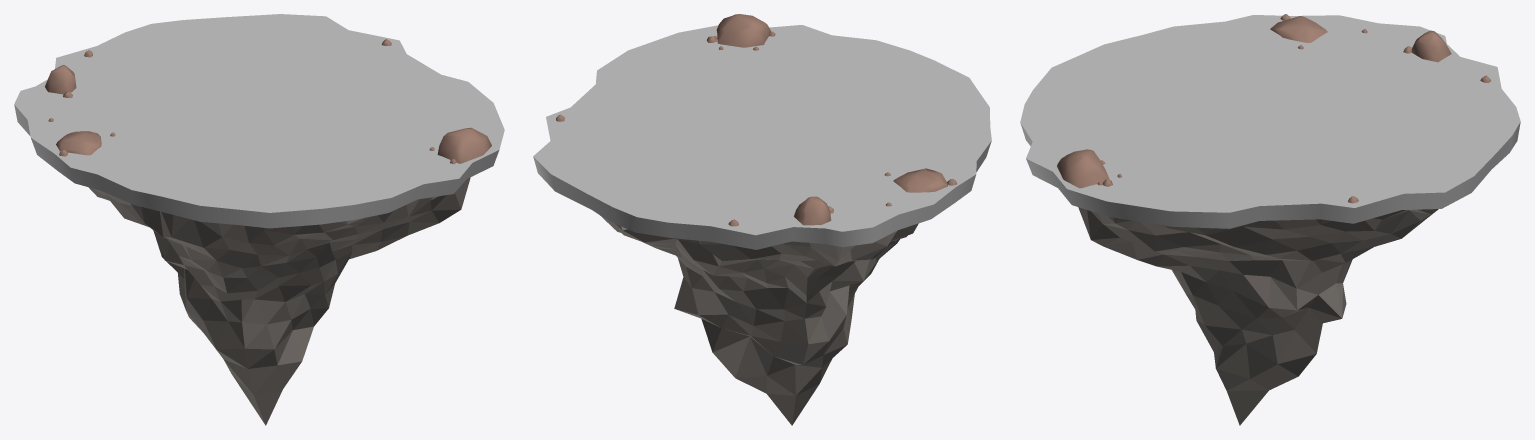
The model's file is Asteroid_Small_1.fbx.
3 renders of one model, left to right at view 1: azimuth 30°, elevation 25°; view 2: azimuth 150°, elevation 25°; view 3: azimuth 270°, elevation 25°, orthographic. The views are drawn at different scales.
Parts seen in each view (by area): view 1: Asteroid_small_1; view 2: Asteroid_small_1; view 3: Asteroid_small_1.
Part boxes in pixels (x1,y1,x2,y2): Asteroid_small_1: [14, 14, 504, 425]; Asteroid_small_1: [533, 14, 991, 425]; Asteroid_small_1: [1020, 14, 1520, 425].
Size of the model in its own units: 53.55 by 42.55 by 57.23.
